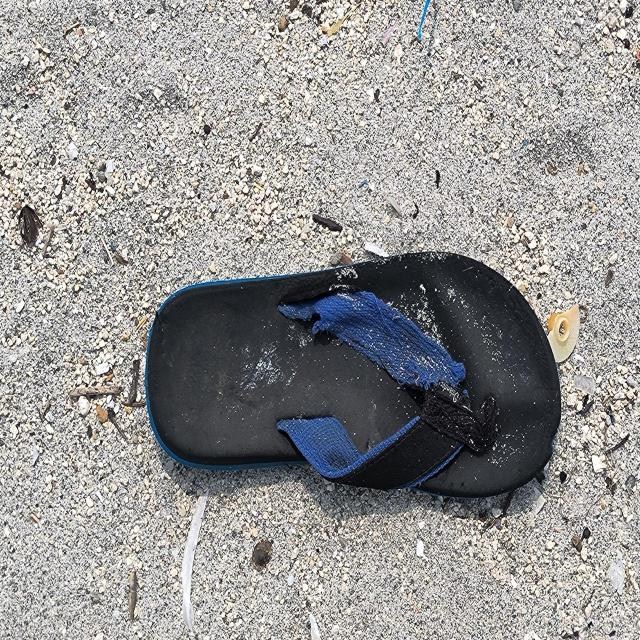rubber_waste: (144, 250, 562, 500)
